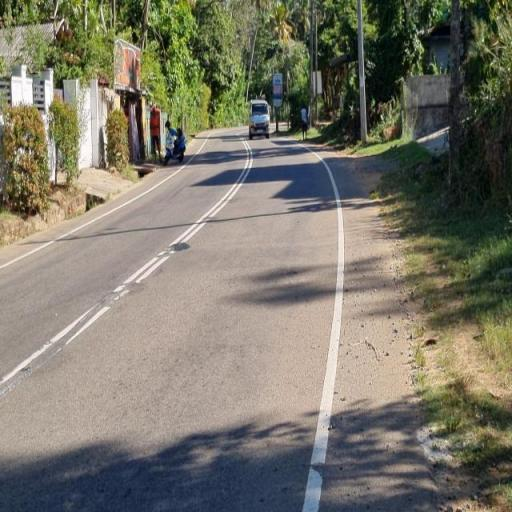double_white_line: (110, 138, 254, 302), (0, 301, 110, 392)
